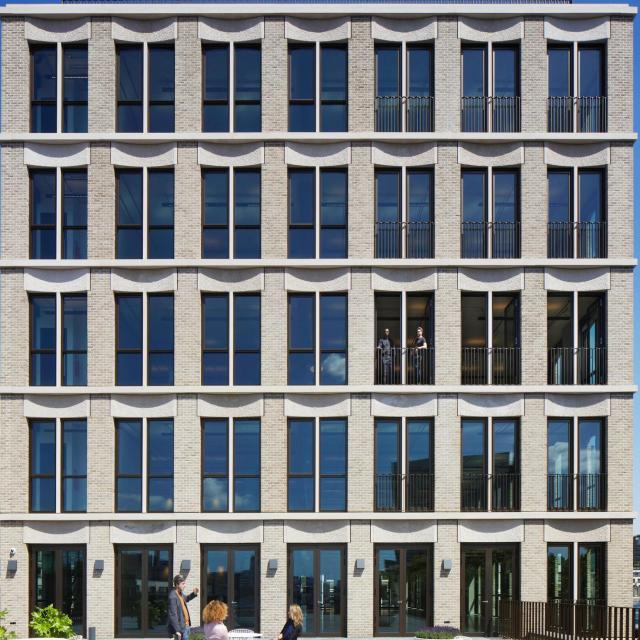door: (544, 542, 607, 638), (374, 543, 436, 640), (458, 541, 518, 639), (285, 544, 346, 640), (116, 544, 173, 640), (202, 544, 258, 640), (28, 547, 85, 637)
railing: (518, 601, 640, 640), (370, 220, 432, 258), (547, 97, 610, 134), (547, 472, 605, 512), (460, 346, 521, 384), (373, 93, 434, 131), (378, 343, 433, 385), (549, 221, 606, 261), (463, 471, 516, 513), (549, 344, 604, 384), (377, 473, 434, 511), (459, 222, 518, 258), (462, 92, 519, 129)
window: (115, 41, 176, 131), (287, 38, 348, 128), (115, 167, 176, 257), (287, 164, 348, 254), (26, 296, 87, 386), (198, 293, 259, 383), (460, 41, 521, 131), (378, 413, 434, 510), (31, 427, 92, 516), (203, 424, 264, 513), (374, 44, 435, 133), (548, 41, 609, 130), (30, 43, 90, 133), (202, 40, 262, 130), (112, 294, 172, 384), (284, 291, 344, 381), (117, 425, 177, 515), (289, 422, 349, 512), (460, 418, 518, 511), (30, 169, 90, 258), (202, 166, 262, 255), (372, 173, 433, 259), (548, 420, 604, 511), (464, 169, 521, 258), (549, 171, 605, 261)
